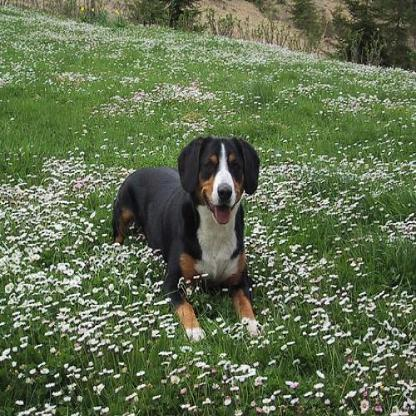EntleBucher: (101, 127, 273, 354)
